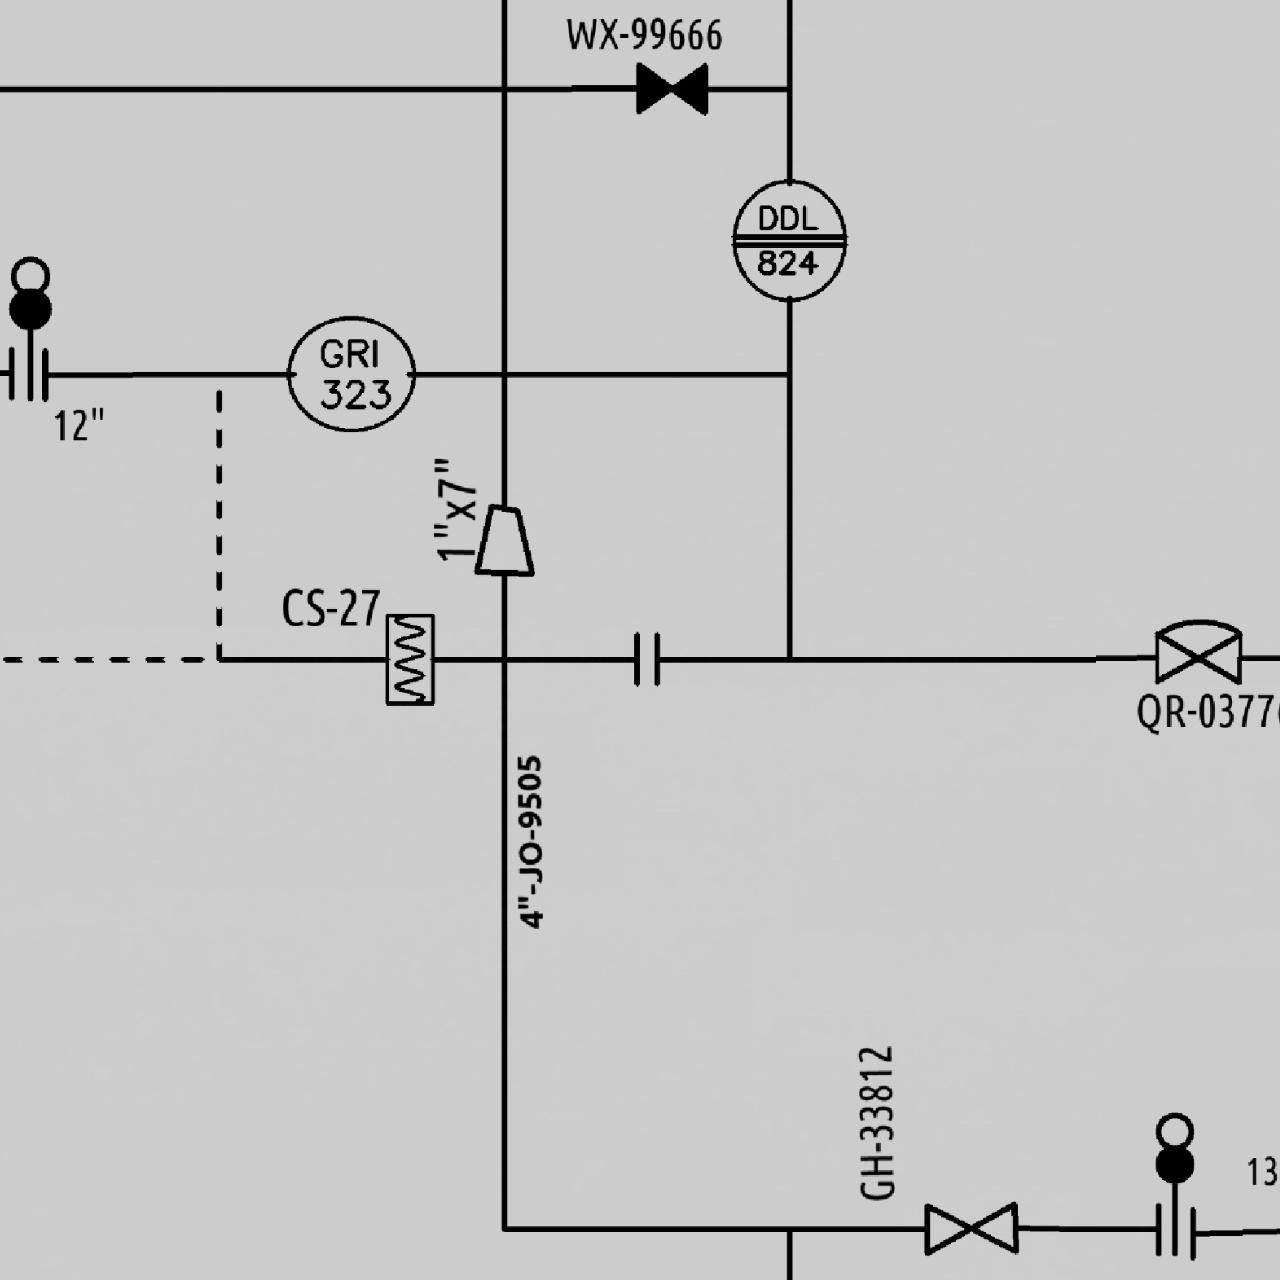Control-Panel: (722, 173, 855, 305)
